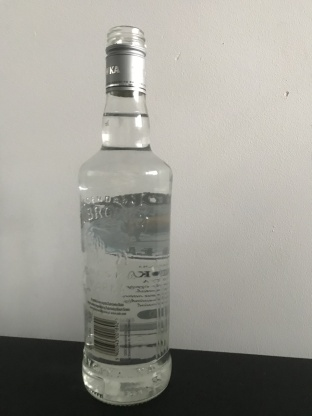nakretka: (103, 23, 148, 99)
